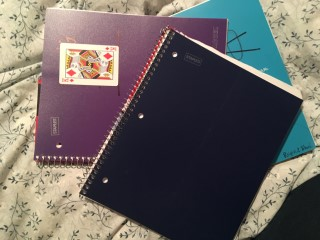KingOfDiamonds: (59, 41, 119, 86)
